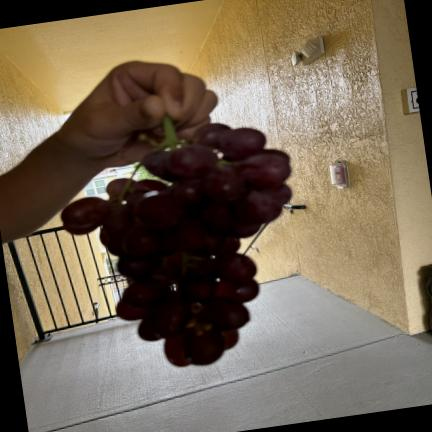grape_cluster: (61, 123, 291, 366)
